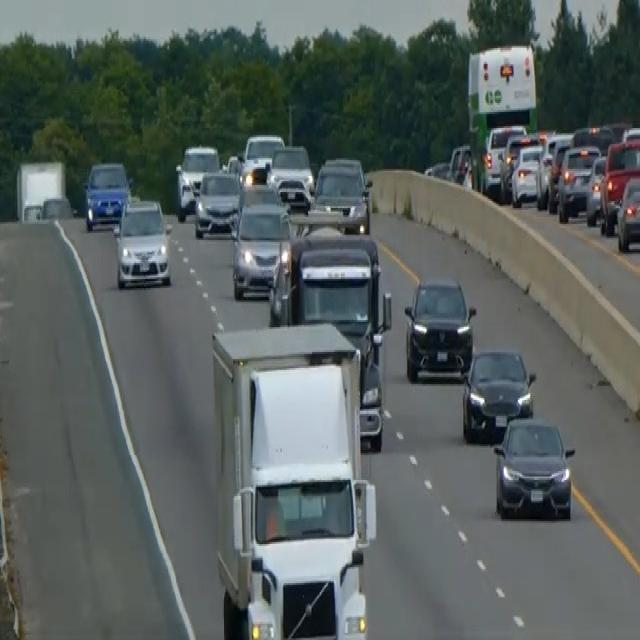bus: (465, 41, 538, 194)
car: (492, 414, 575, 521), (403, 274, 476, 382), (461, 345, 536, 441), (230, 199, 292, 299), (112, 196, 172, 288), (309, 155, 372, 233), (599, 137, 639, 233), (174, 142, 220, 219), (83, 158, 130, 230), (557, 142, 599, 222), (194, 167, 241, 238), (267, 142, 314, 210), (482, 122, 526, 194), (510, 140, 544, 208), (241, 130, 284, 178), (616, 175, 639, 252), (585, 153, 607, 224), (237, 178, 280, 212), (571, 122, 614, 156), (447, 142, 471, 185)
lorry: (209, 320, 377, 636), (269, 220, 392, 452)
truck: (15, 158, 69, 222)
